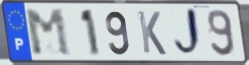1: (80, 8, 102, 58)
9: (206, 8, 236, 58), (105, 10, 131, 56)
J: (173, 6, 205, 60)
K: (136, 10, 169, 57)
M: (23, 8, 74, 59)
